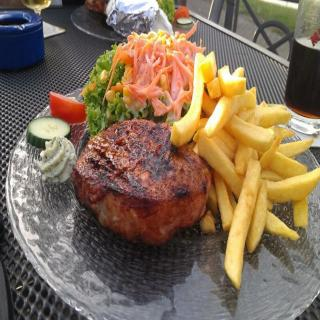French fries: (188, 46, 300, 270)
